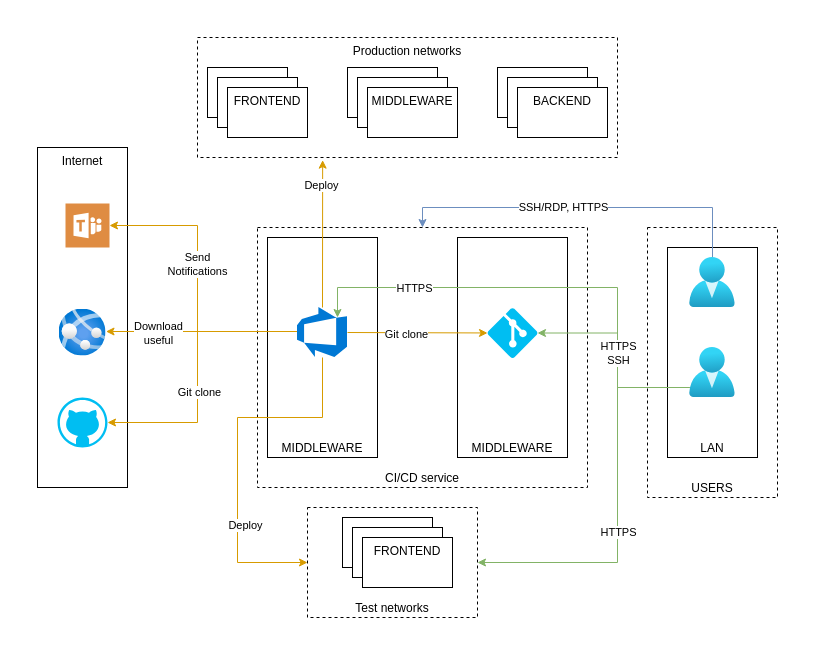
The diagram is 814 pixels wide and 654 high, and some of its shapes have lost their labels. The centre of each missing label's shape, as x and y in pixels:
Azure DevOps Server: the point at 322,332
Dev: the point at 712,372
DevOps: the point at 712,282
Github.com: the point at 82,422
Other Git server: the point at 512,333
Pub services: the point at 82,332
